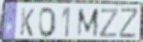1: (60, 6, 71, 40)
K: (19, 7, 36, 38)
M: (76, 8, 100, 39)
O: (39, 6, 57, 39)
Z: (119, 7, 140, 40), (98, 8, 119, 39)
